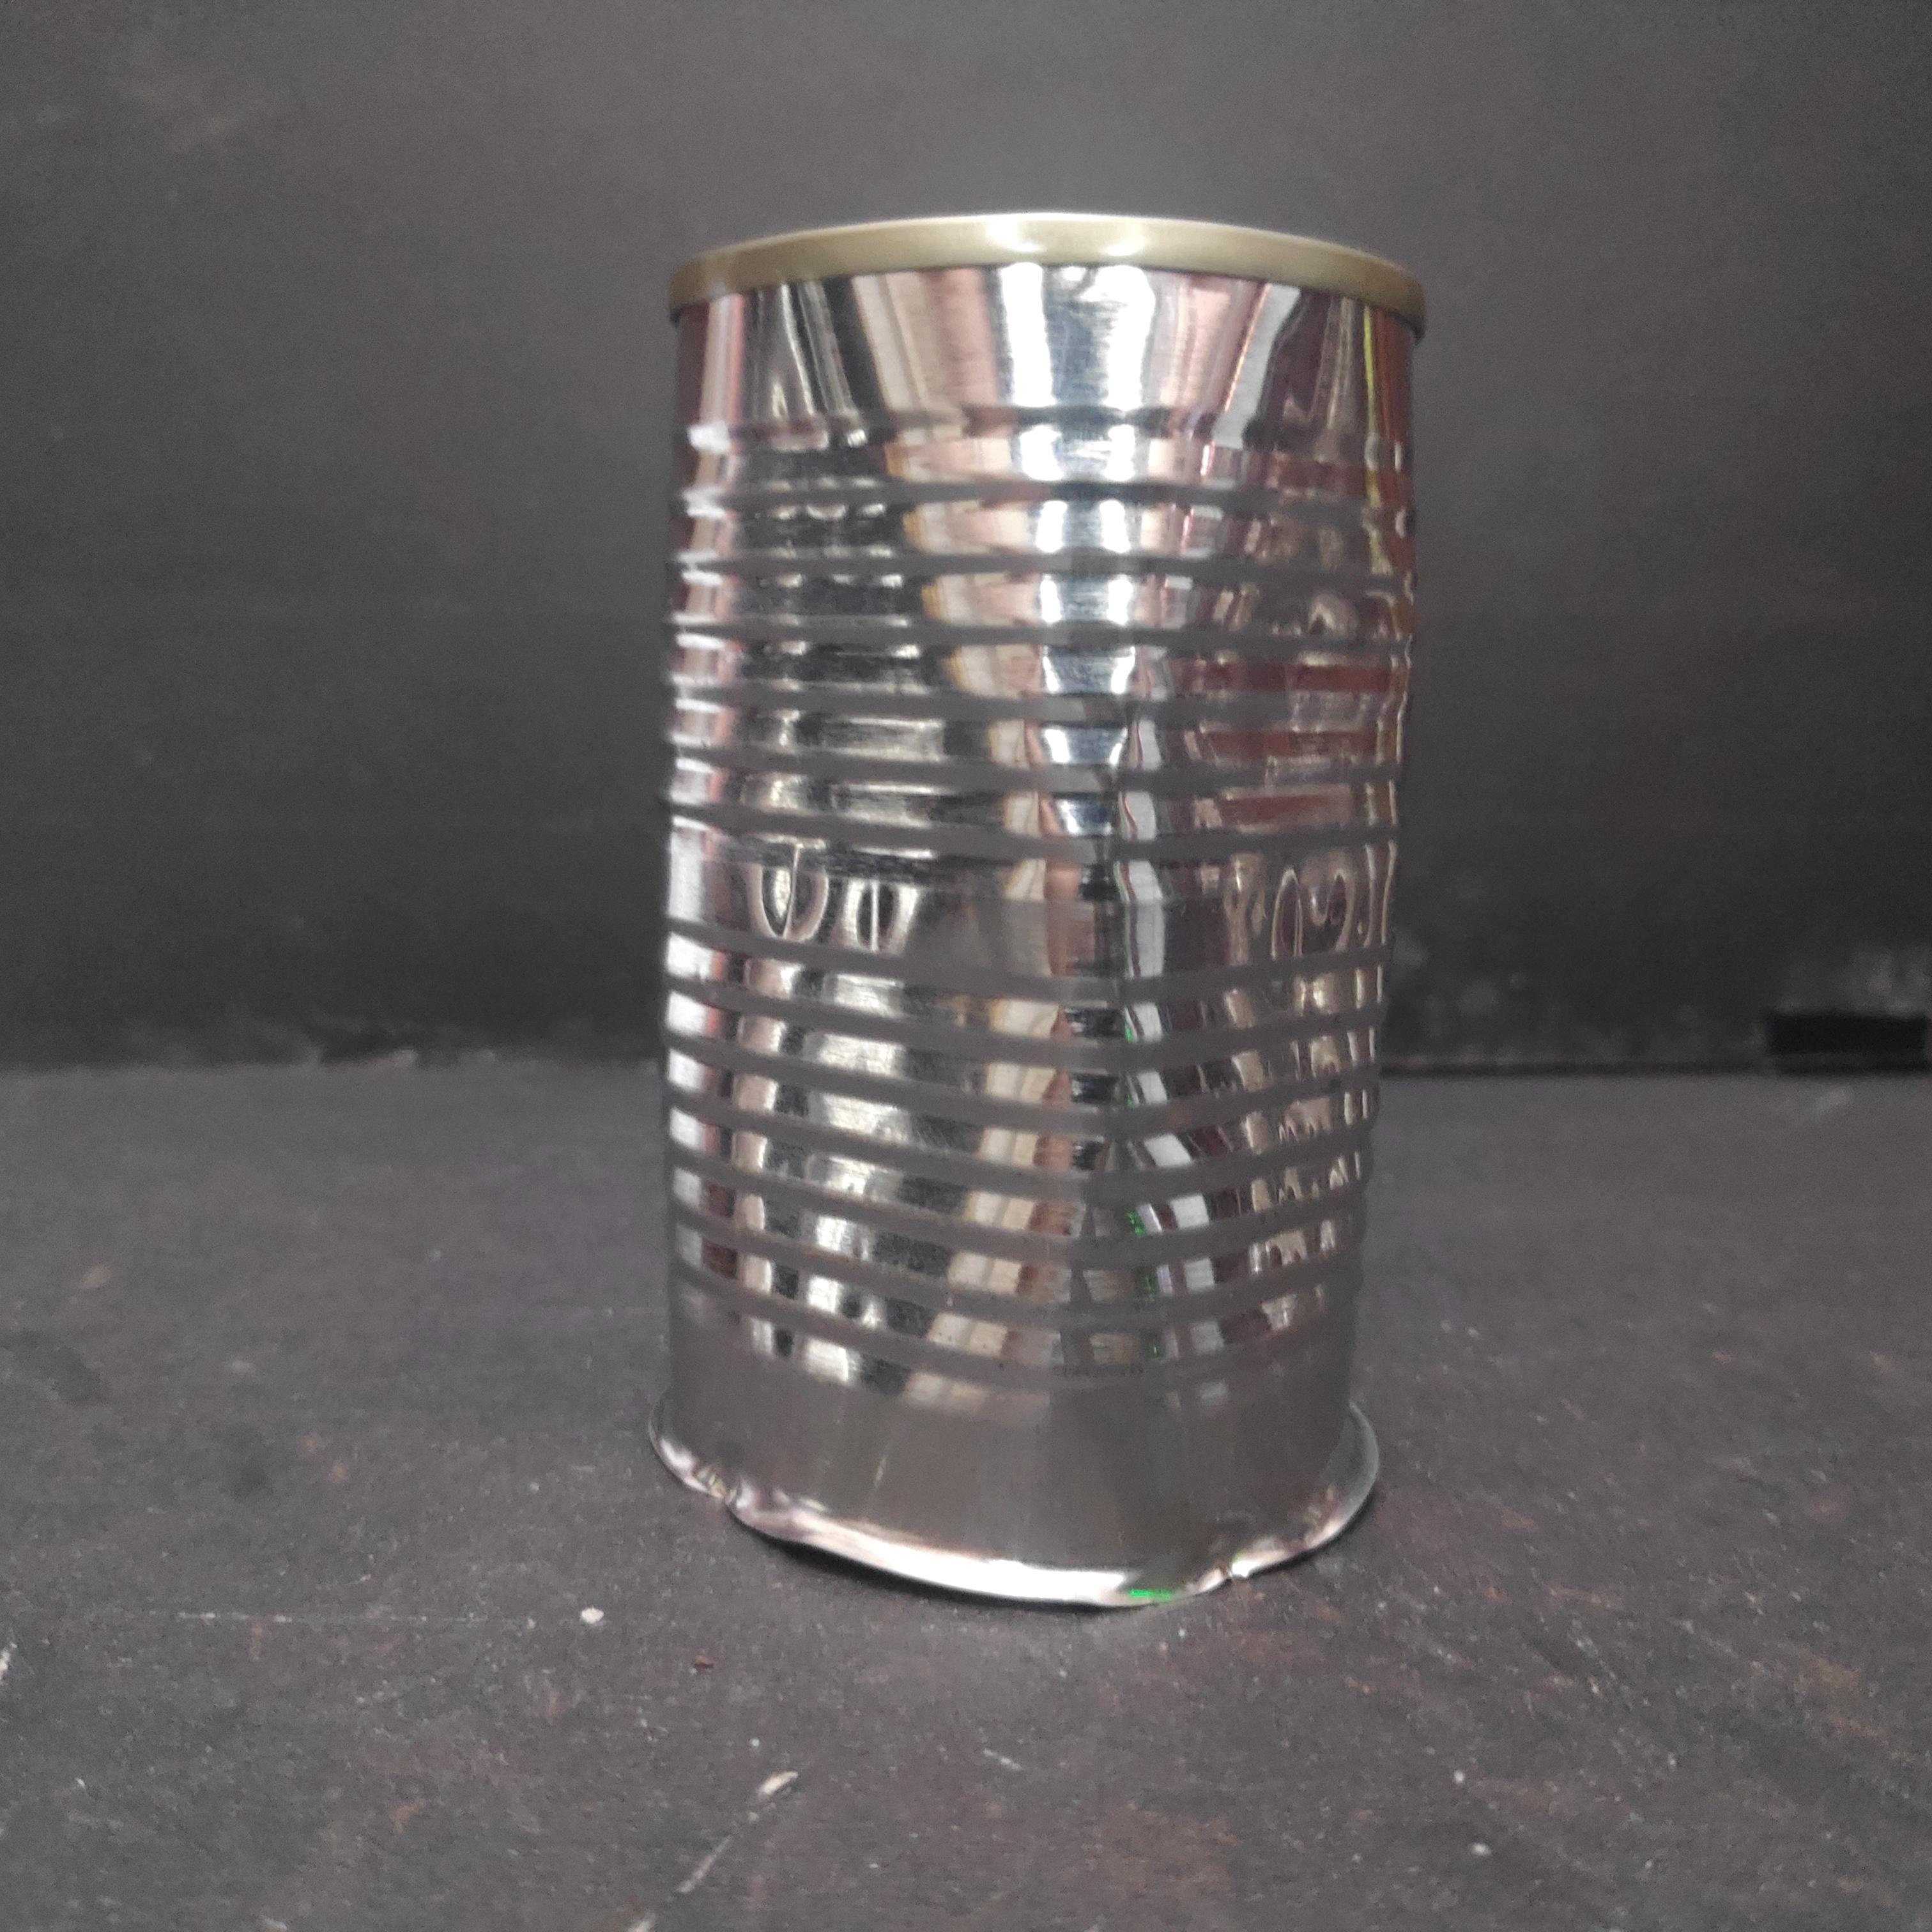Minor Defect: (644, 205, 1438, 1612)
